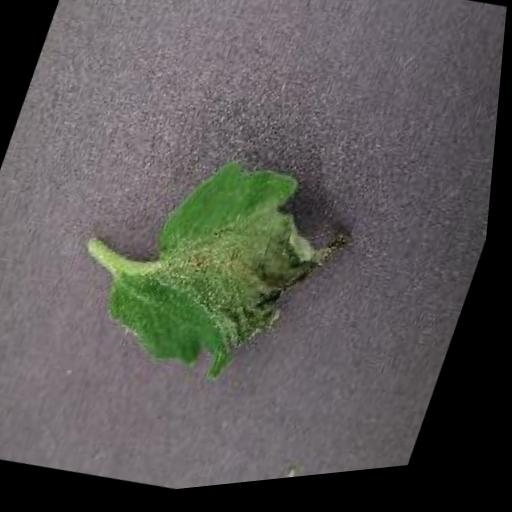Late Blight: (80, 125, 390, 425)
